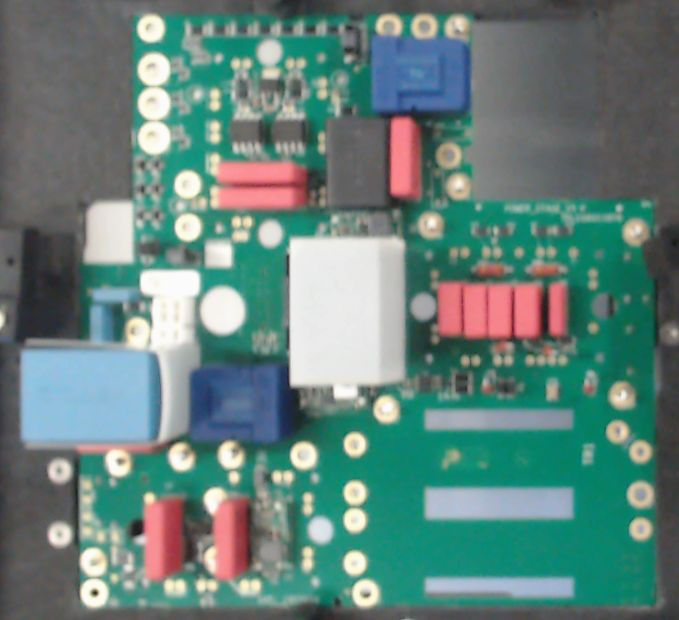comp1: (369, 33, 470, 119), (190, 367, 293, 444)
comp2: (143, 500, 186, 580), (387, 117, 425, 203), (212, 498, 251, 581), (216, 184, 310, 209), (215, 161, 308, 184), (513, 279, 542, 343), (462, 281, 489, 342), (438, 282, 462, 341), (489, 281, 512, 342), (548, 282, 567, 338)
comp3: (324, 116, 391, 208)
comp4: (16, 337, 199, 454), (289, 235, 408, 386)
